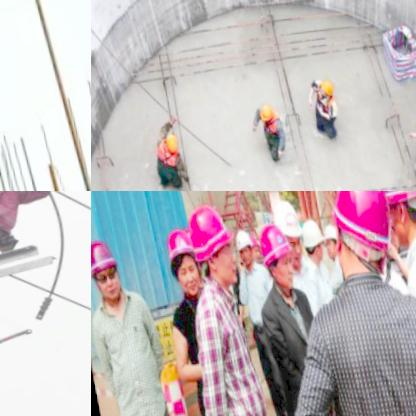helmet: (322, 191, 397, 283), (179, 201, 239, 294), (158, 227, 203, 303), (251, 224, 295, 292), (371, 191, 416, 252), (91, 236, 123, 308), (272, 202, 300, 256), (295, 220, 324, 269), (228, 230, 255, 272), (318, 223, 341, 266), (157, 129, 178, 161), (252, 103, 275, 128), (314, 78, 334, 104), (408, 119, 416, 142)
